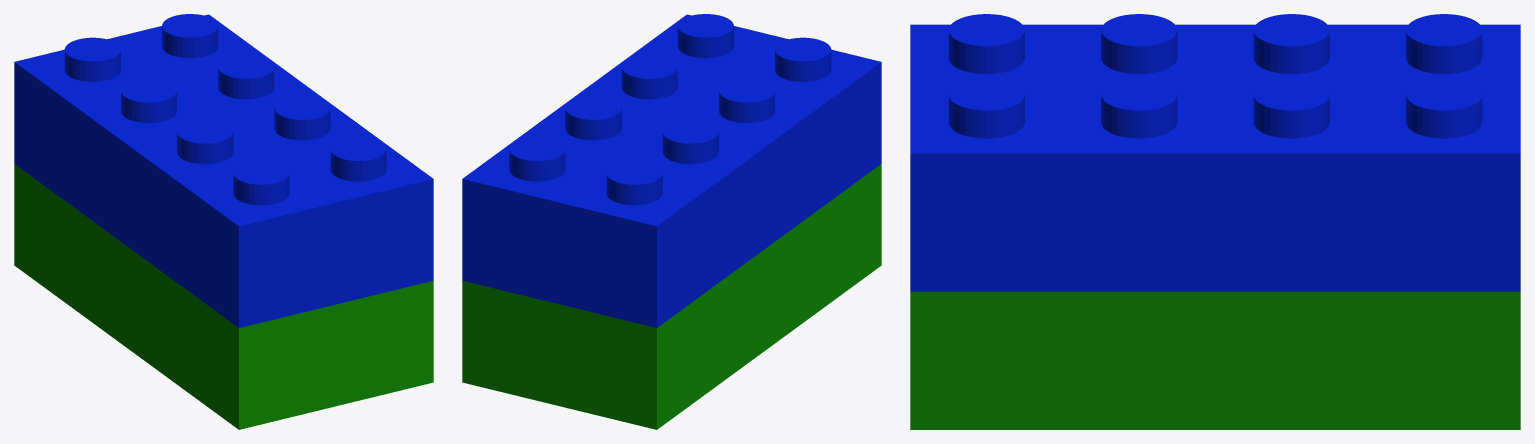
Rendered from Block4.fbx.
3 renders of one model, left to right at view 1: azimuth 30°, elevation 25°; view 2: azimuth 150°, elevation 25°; view 3: azimuth 270°, elevation 25°, orthographic. The views are drawn at different scales.
Parts seen in each view (by area): view 1: Block2; view 2: Block2; view 3: Block2.
Part boxes in pixels (box(x1,y1,x2,y2)): Block2: box(14, 14, 433, 429); Block2: box(462, 14, 881, 429); Block2: box(910, 14, 1520, 429).
Size of the model in its own units: 200 by 220 by 400.
